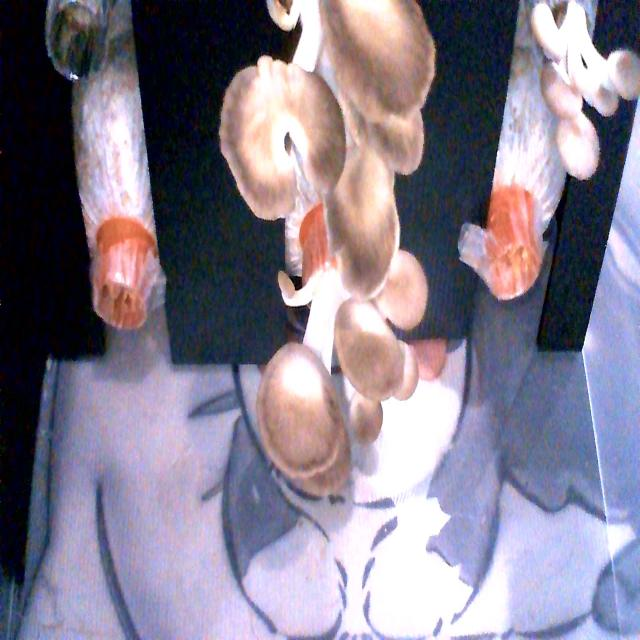big: (241, 209, 458, 477), (235, 0, 435, 273)
nfound: (88, 246, 168, 356), (478, 196, 548, 316), (40, 5, 116, 103)
small: (526, 0, 640, 217)
